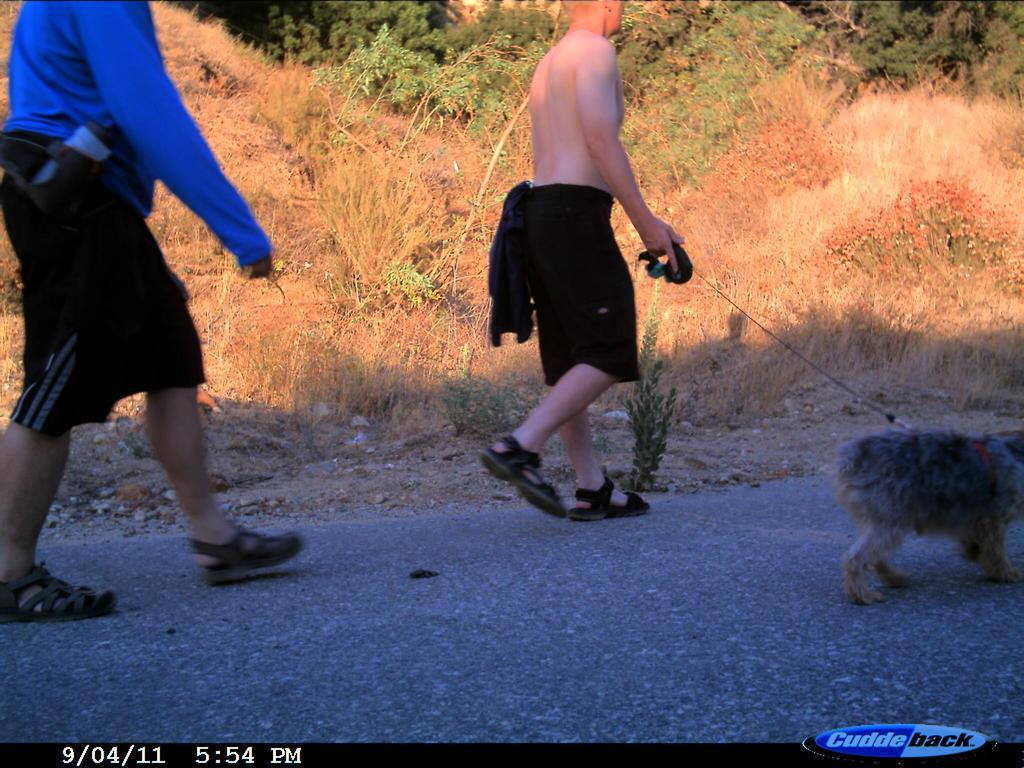dog: (821, 405, 1023, 611)
